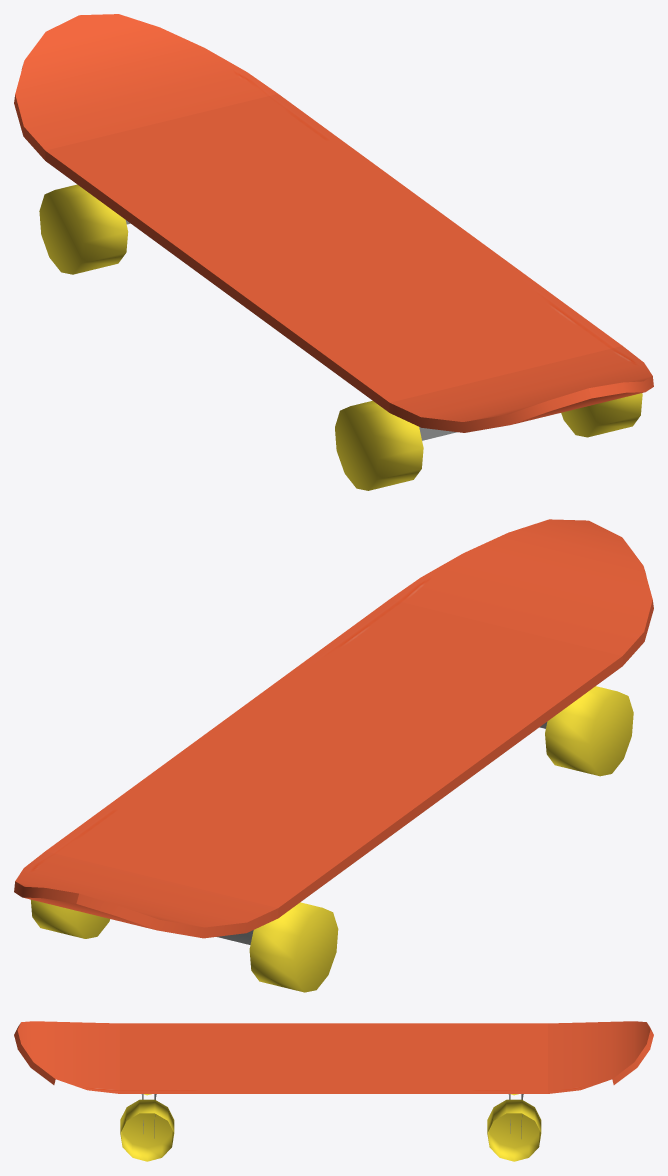
File: Skateboard.fbx
The picture shows the model from 3 angles, top to bottom: view 1: azimuth 30°, elevation 25°; view 2: azimuth 150°, elevation 25°; view 3: azimuth 270°, elevation 25°; orthographic projection. The views are drawn at different scales.
Parts seen in each view (by area): view 1: Deck, FrontForward, FrontBack, RearForward; view 2: Deck, FrontBack, FrontForward, RearBack; view 3: Deck, RearBack, RearForward.
Boxes of the visible parts, x1,y1,x2,y2 form: Deck: [14, 14, 653, 432]; FrontForward: [335, 400, 456, 490]; FrontBack: [39, 184, 130, 274]; RearForward: [561, 393, 642, 437]; Deck: [14, 519, 653, 938]; FrontBack: [217, 902, 338, 992]; FrontForward: [539, 686, 633, 776]; RearBack: [31, 899, 110, 938]; Deck: [14, 1021, 653, 1093]; RearBack: [487, 1099, 541, 1161]; RearForward: [120, 1099, 174, 1161].
Size of the model in its own units: 7.49 by 3.93 by 25.16.
